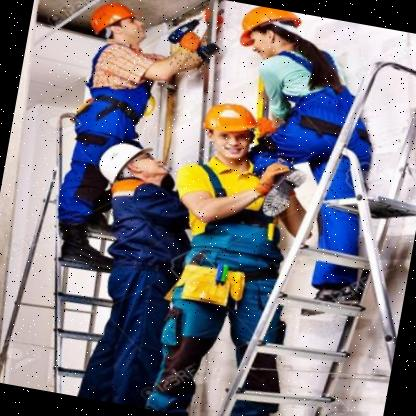bota: (48, 216, 119, 270), (299, 274, 361, 325), (261, 164, 307, 222)
capacete: (197, 98, 266, 164), (235, 3, 306, 62), (95, 140, 172, 190), (87, 0, 151, 47)
